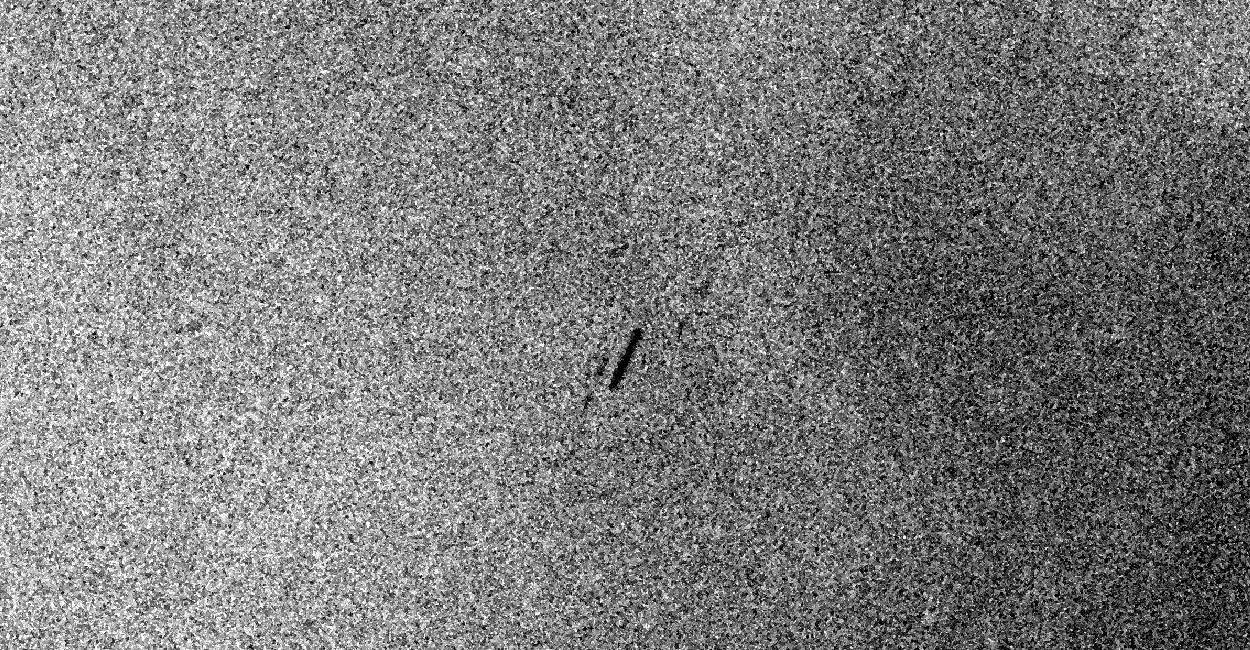Oil Spill: (606, 326, 644, 392)
